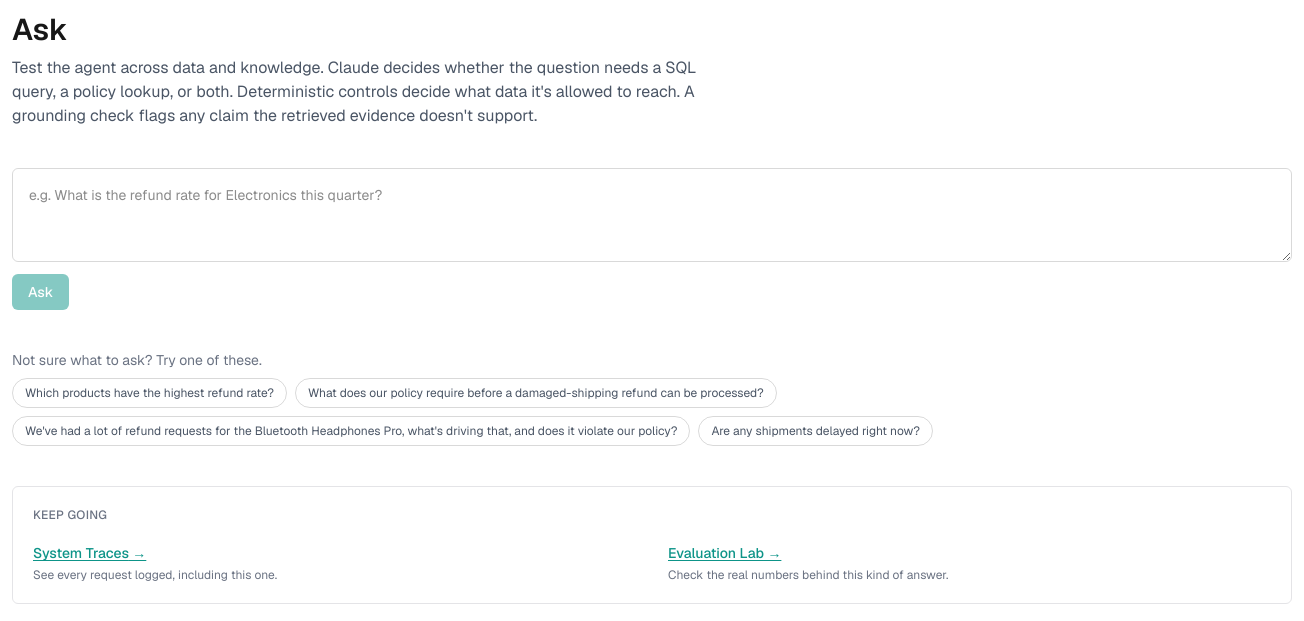
Test case: Ask page example questions › clicking Which products have the highest refund rate? populates the textarea with that exact text
Click the button "Which products have the highest refund rate?" at point(150, 393), box [12, 378, 287, 408]
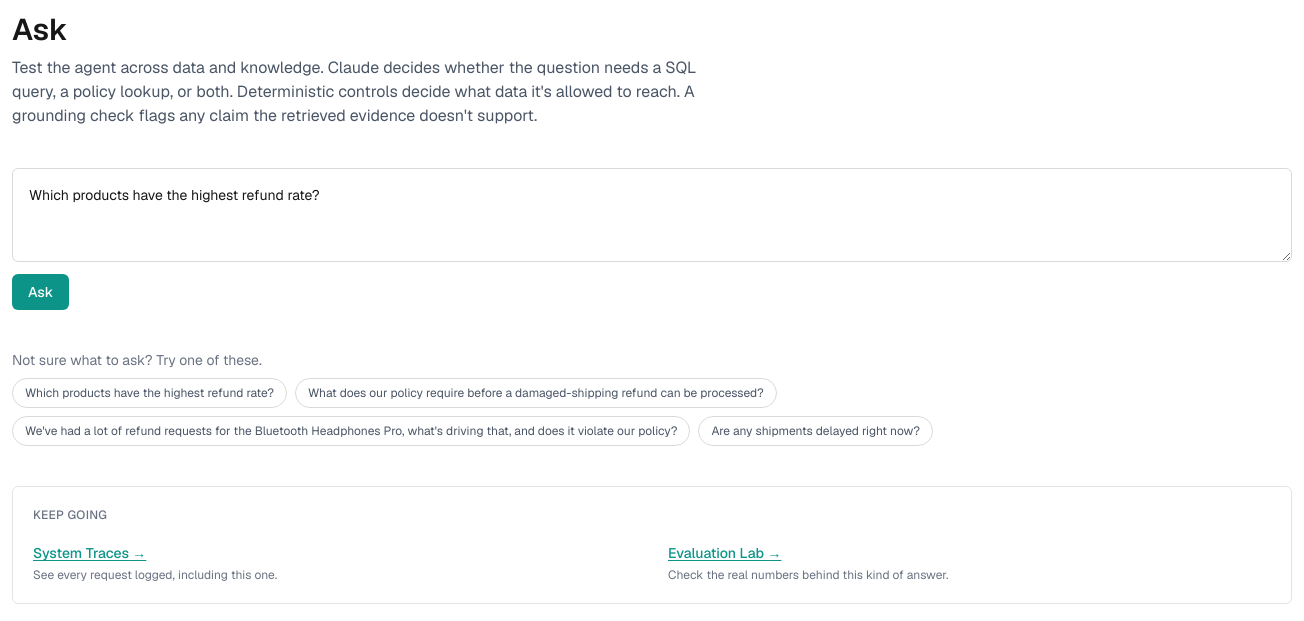
Expected: the text box with placeholder "e.g. What is the refund rate for Electronics this quarter?" holds "Which products have the highest refund rate?", [12, 168, 1292, 262]
